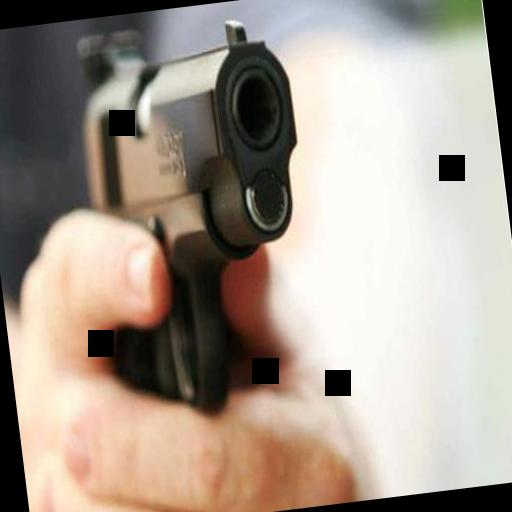Handgun: (64, 6, 336, 436)
